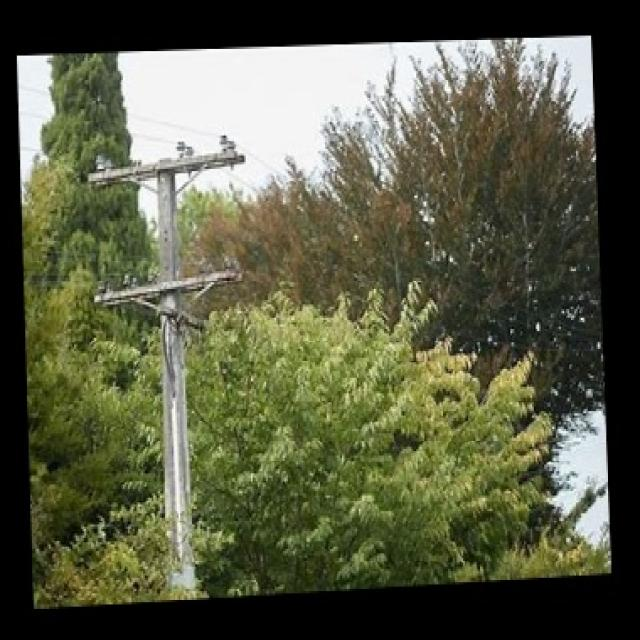utility poles: (84, 131, 256, 596)
